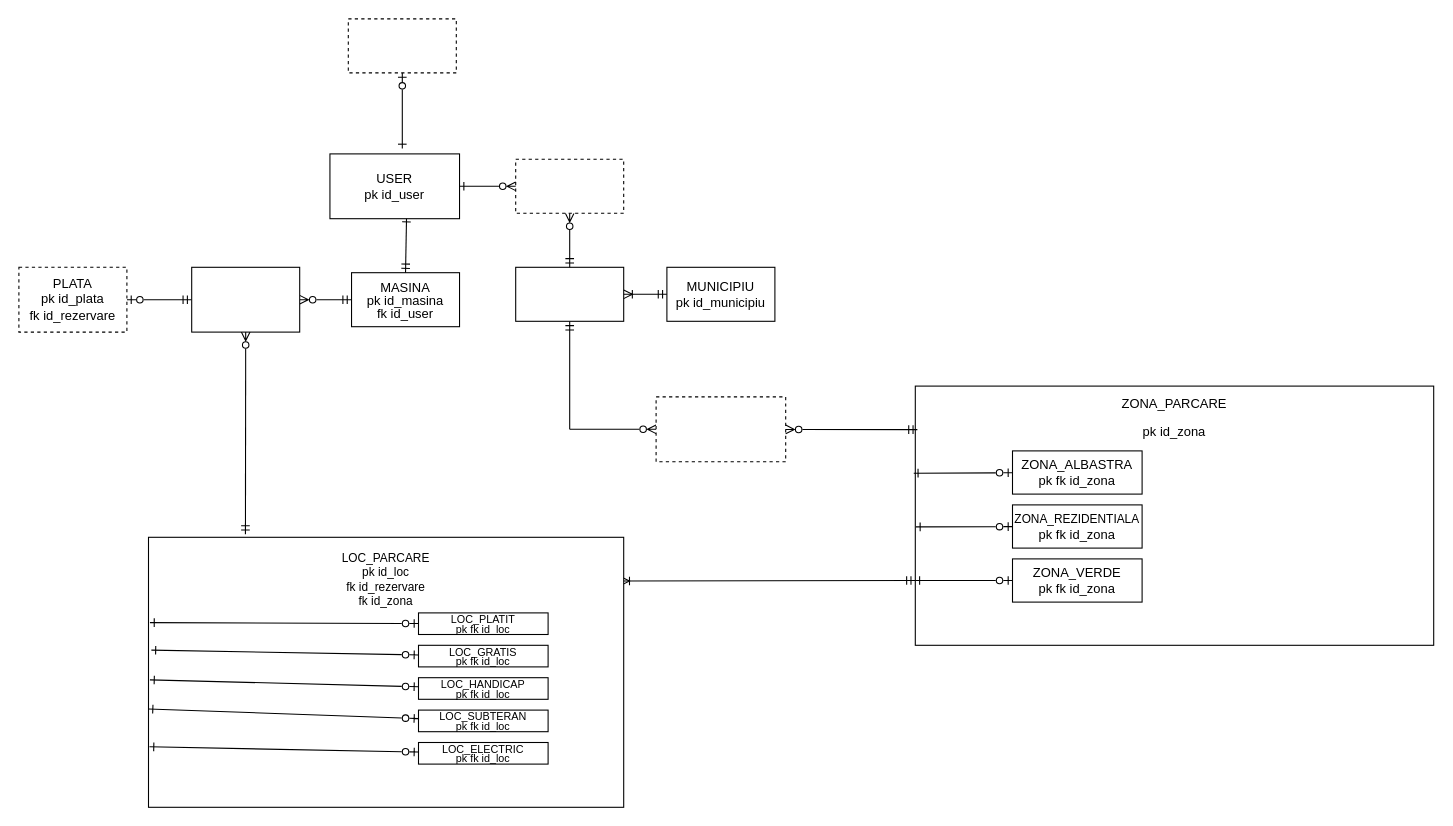
Some shapes in this 1453 by 826 pixel diagram are drawn without their labels. Here are the shapes that lost their labels. From the top down, the centre of each, then its label:
At point 401,45: "ABONAMENT pk id_abonament fk id_user".
At point 569,185: "RECENZIE pk id_recenzie fk id_user fk id_spatiu".
At point 245,299: "REZERVARE pk id_rezervare fk id_loc fk id_masina".
At point 569,293: "SPATIU pk id_spatiu fk id_municipiu".
At point 720,429: "SPATIU_PARCARE pk fk id_spatiu pk fk id_zona".
